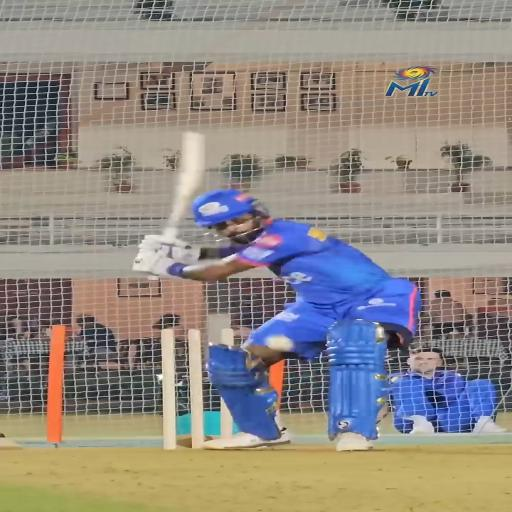Cricket bat: (161, 132, 205, 242)
